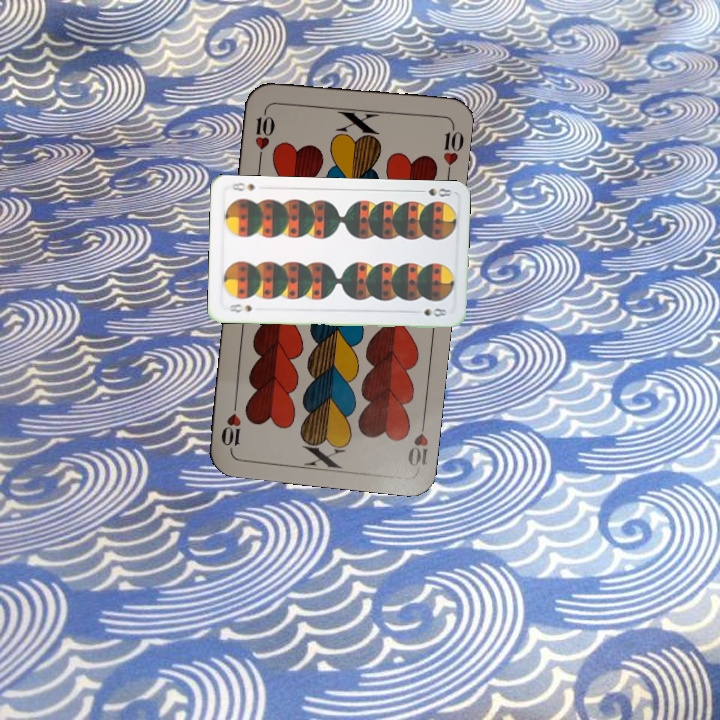H10: (403, 412, 431, 470), (251, 103, 278, 163)
S8: (414, 184, 454, 199), (225, 300, 254, 315)
